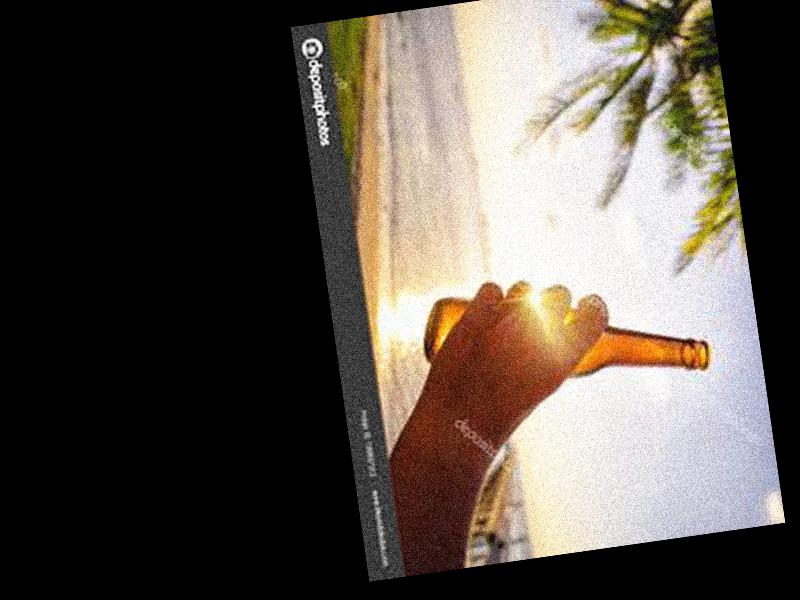Beer: (417, 262, 712, 409)
